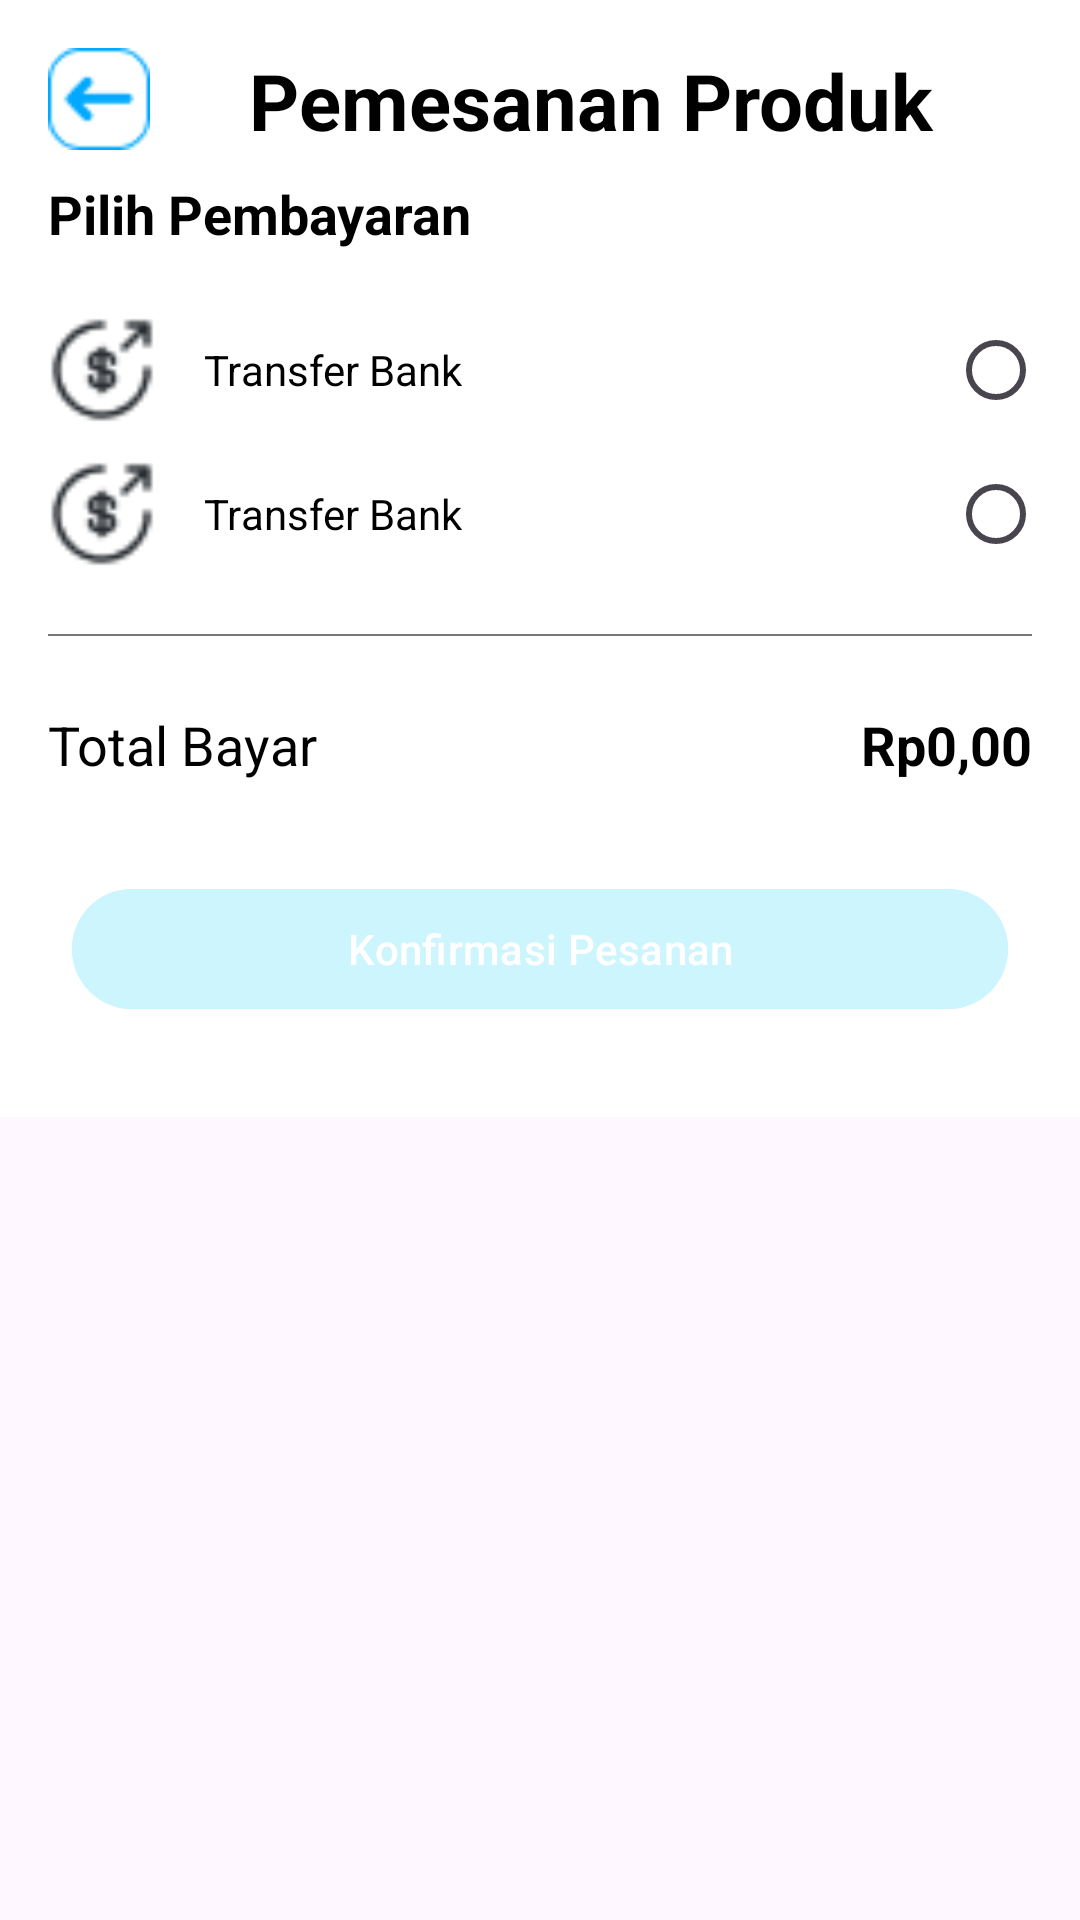

Locate icon controls on the screen. Image size 1080×1920, boxes as (x1, y1, x2, y2).
back: (48, 48, 150, 150)
